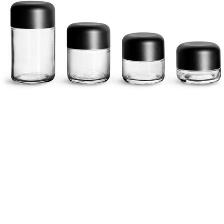bottle: (7, 0, 59, 85), (62, 16, 113, 88), (118, 27, 171, 90), (174, 39, 223, 87)
